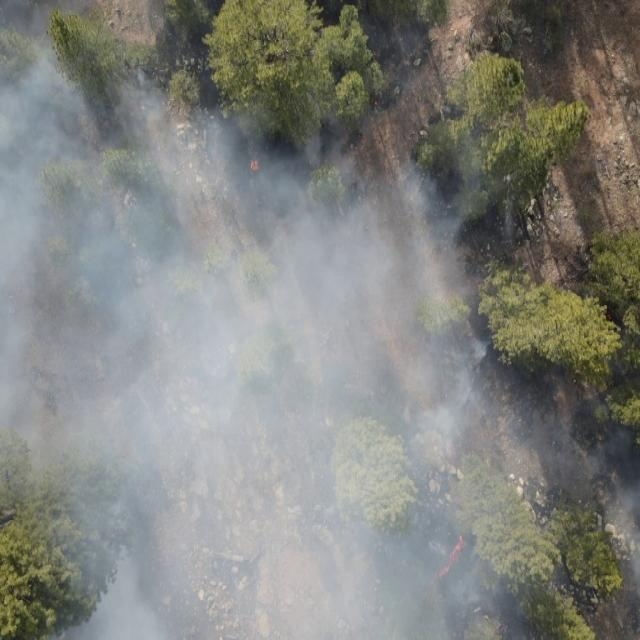fire: (421, 533, 471, 596), (246, 157, 262, 173)
smoke: (0, 85, 512, 640), (512, 367, 640, 640), (0, 0, 191, 85)
